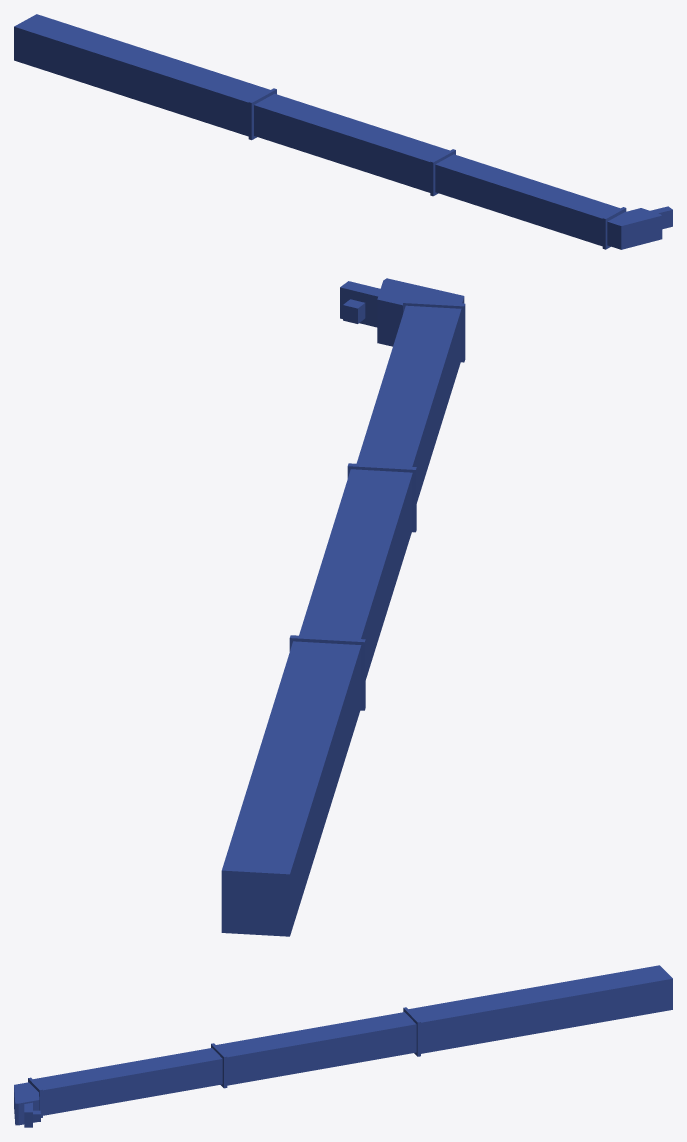
File: tinker.obj
3 renders of one model, top to bottom at view 1: azimuth 30°, elevation 25°; view 2: azimuth 150°, elevation 25°; view 3: azimuth 270°, elevation 25°, orthographic. The views are drawn at different scales.
Parts seen in each view (by area): view 1: obj_0; view 2: obj_0; view 3: obj_0.
Part boxes in pixels (left/top/right/bottom): obj_0: left=14, top=14, right=672, bottom=249; obj_0: left=221, top=278, right=465, bottom=936; obj_0: left=14, top=965, right=672, bottom=1127.
Size of the model in its own units: 194 by 22 by 383.
